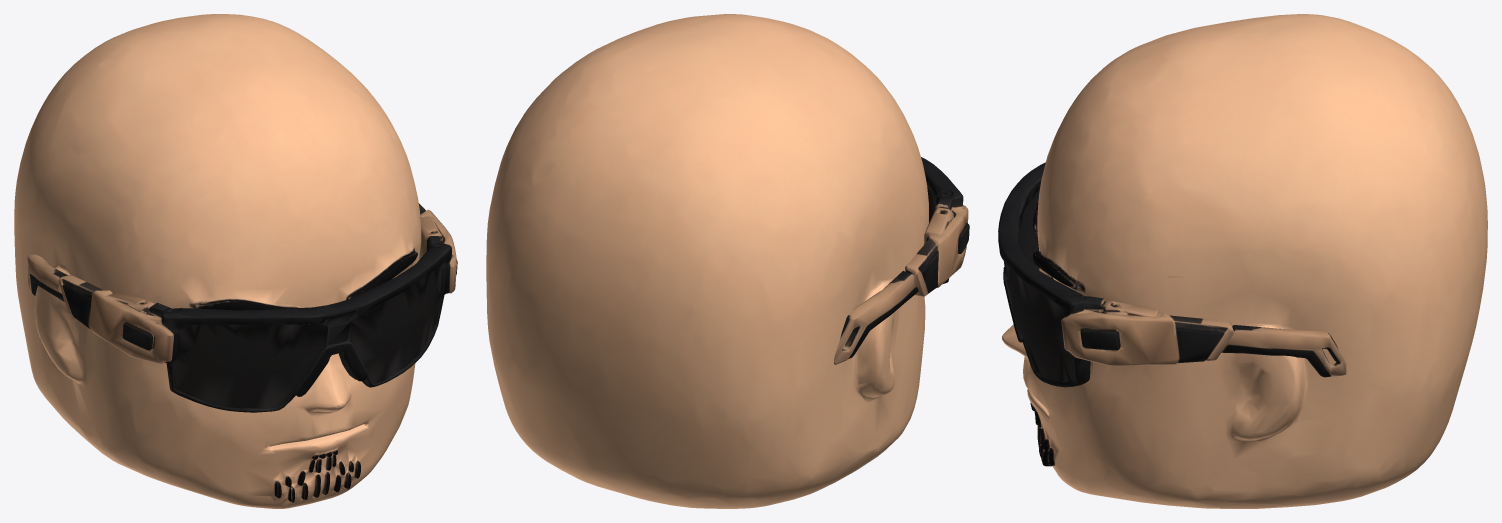
Rendered from Head_with_Glasses.glb.
The picture shows the model from 3 angles, left to right: view 1: azimuth 30°, elevation 25°; view 2: azimuth 150°, elevation 25°; view 3: azimuth 270°, elevation 25°; orthographic projection. The views are drawn at different scales.
Parts seen in each view (by area): view 1: Head_low; view 2: Head_low; view 3: Head_low.
Part boxes in pixels (box(x1,y1,x2,y2)): Head_low: box(14, 14, 457, 508); Head_low: box(486, 14, 969, 508); Head_low: box(998, 14, 1487, 508).
Size of the model in its own units: 0.2717 by 0.2921 by 0.3004.
Materials: 2 (2 with a texture image).
